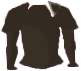platearmour: (1, 1, 81, 71)
